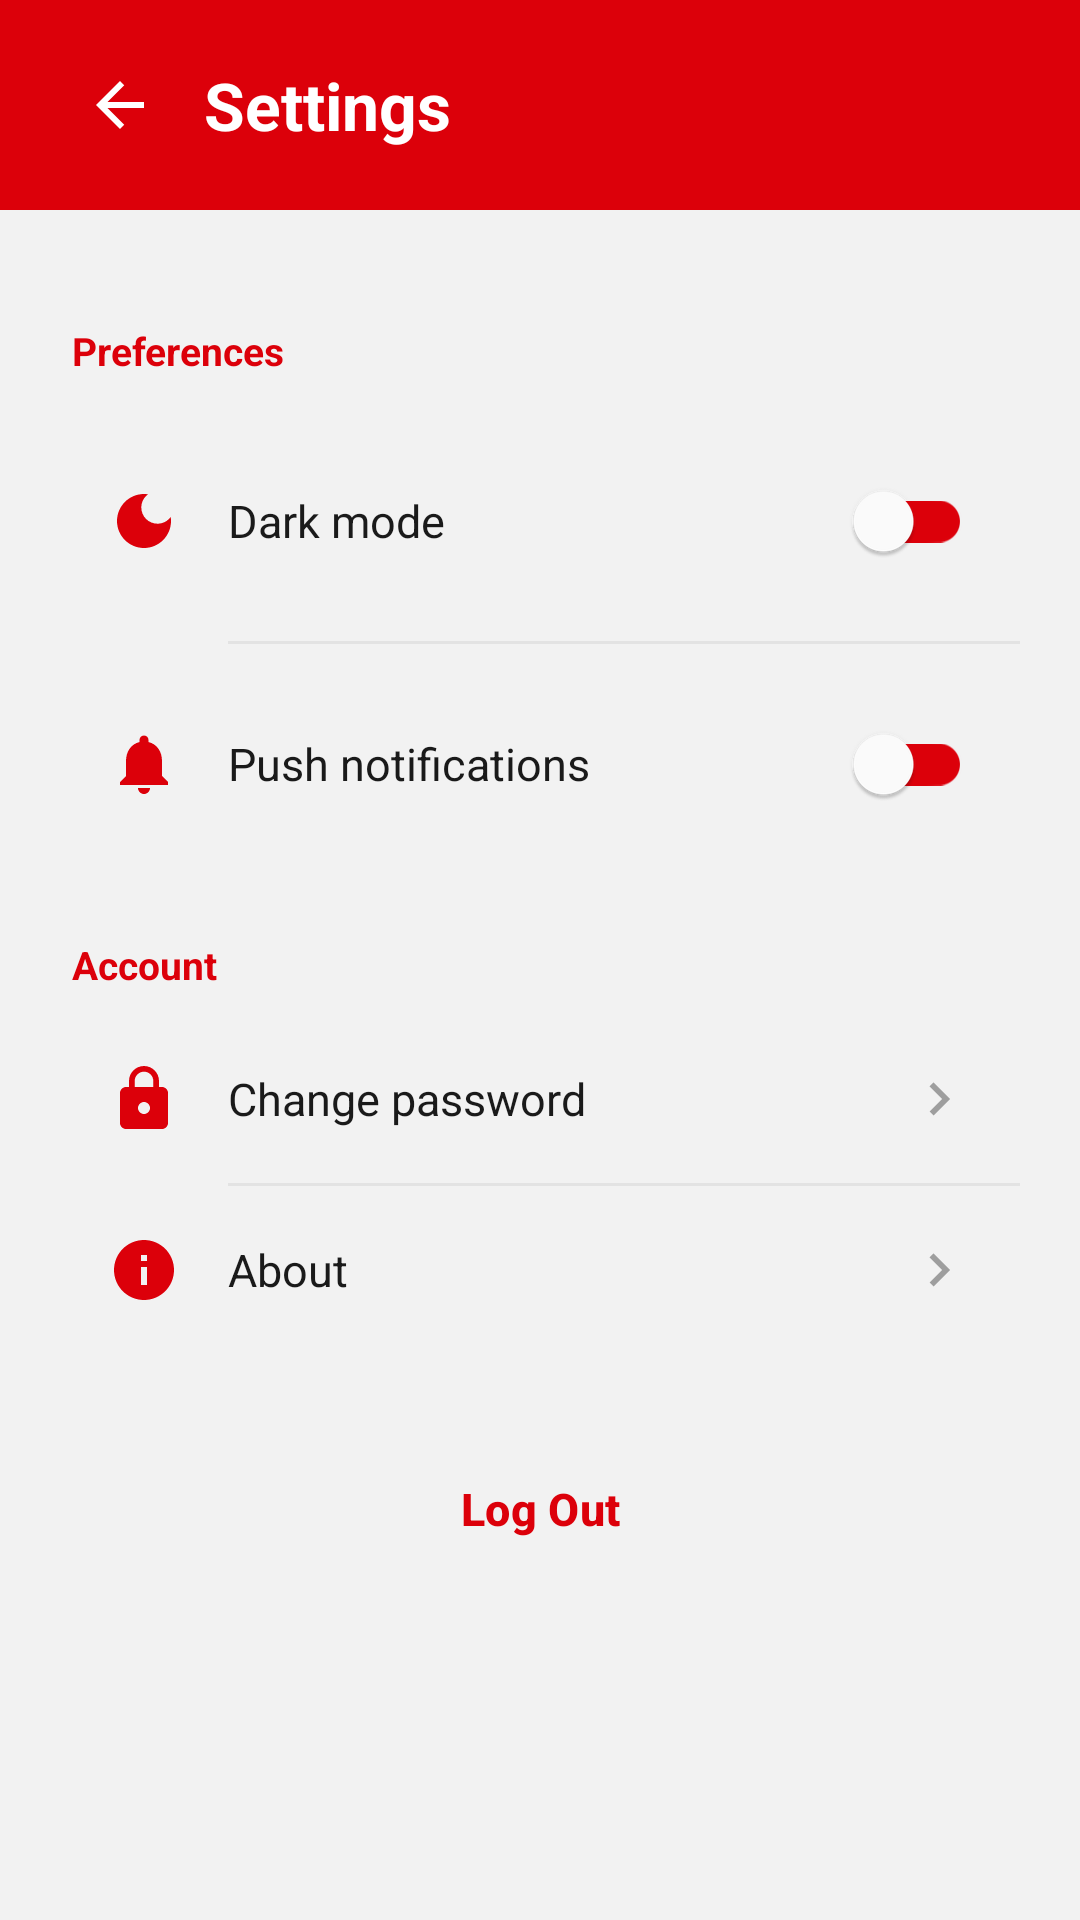

Screen size 1080px×1920px. Icon name, then its center in pixels as (x,y):
Back: (120,105)
chevron right: (940,1098), (940,1269)
info: (144,1270)
lock: (144,1097)
moon: (144,521)
